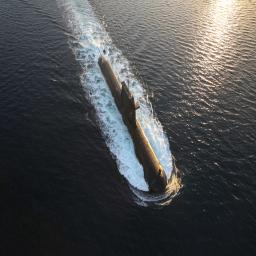submarine: (94, 45, 175, 195)
